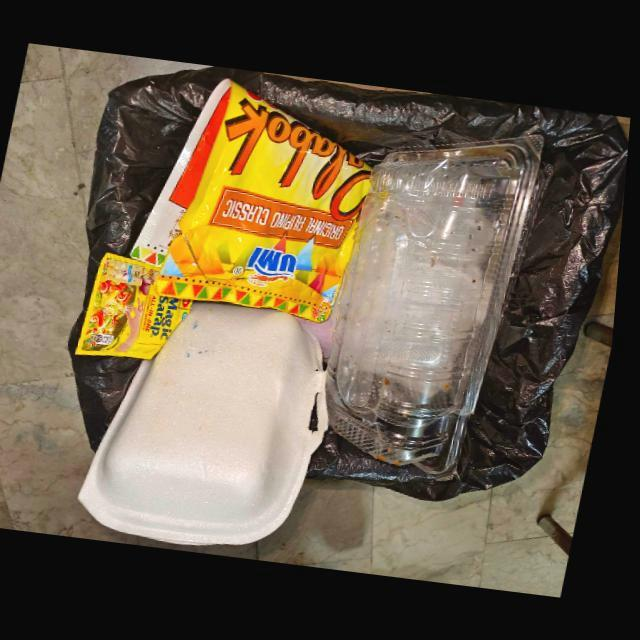food_wrapper: (134, 76, 375, 322)
plastic_container: (331, 132, 546, 475)
plastic_sachet: (81, 251, 198, 359)
